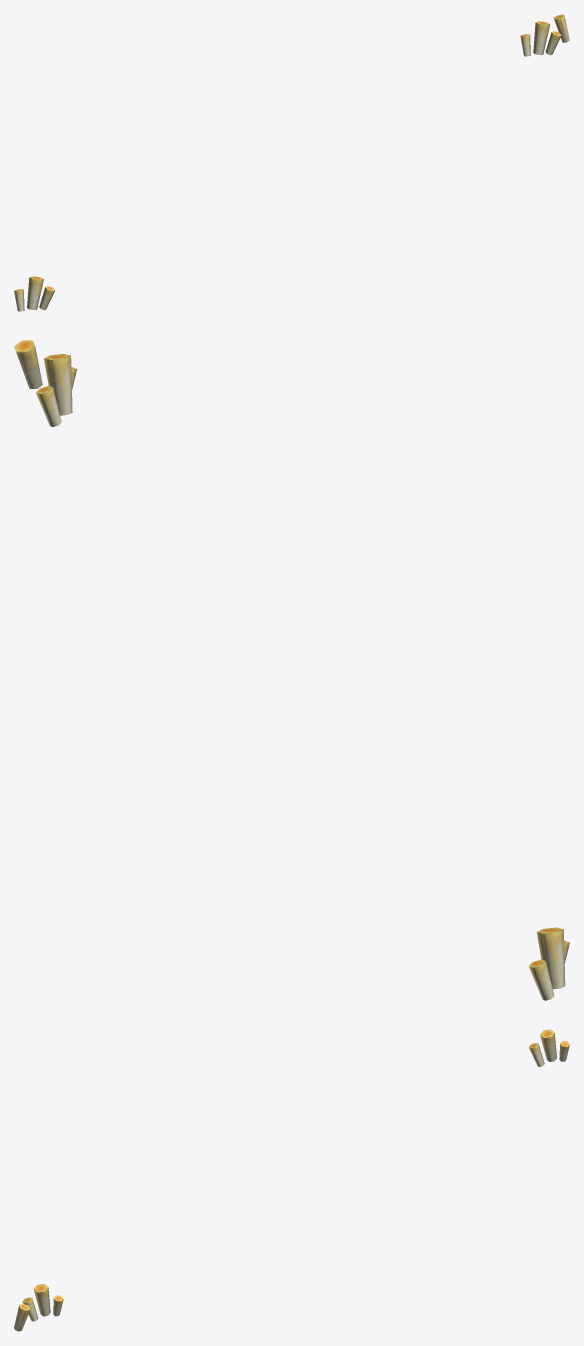
Rendered from Area08_24.fbx.
The picture shows the model from 3 angles, top to bottom: view 1: azimuth 90°, elevation 25°; view 2: azimuth 150°, elevation 25°; view 3: azimuth 270°, elevation 25°; orthographic projection. The views are drawn at different scales.
Parts seen in each view (by area): view 1: Area08_24; view 2: Area08_24; view 3: Area08_24.
Boxes of the visible parts, <box> form: Area08_24: <box>14,14,569,311</box>; Area08_24: <box>14,340,569,1000</box>; Area08_24: <box>14,1029,569,1331</box>.
Bounding box in the file's own units: 845 × 48.58 × 723.
